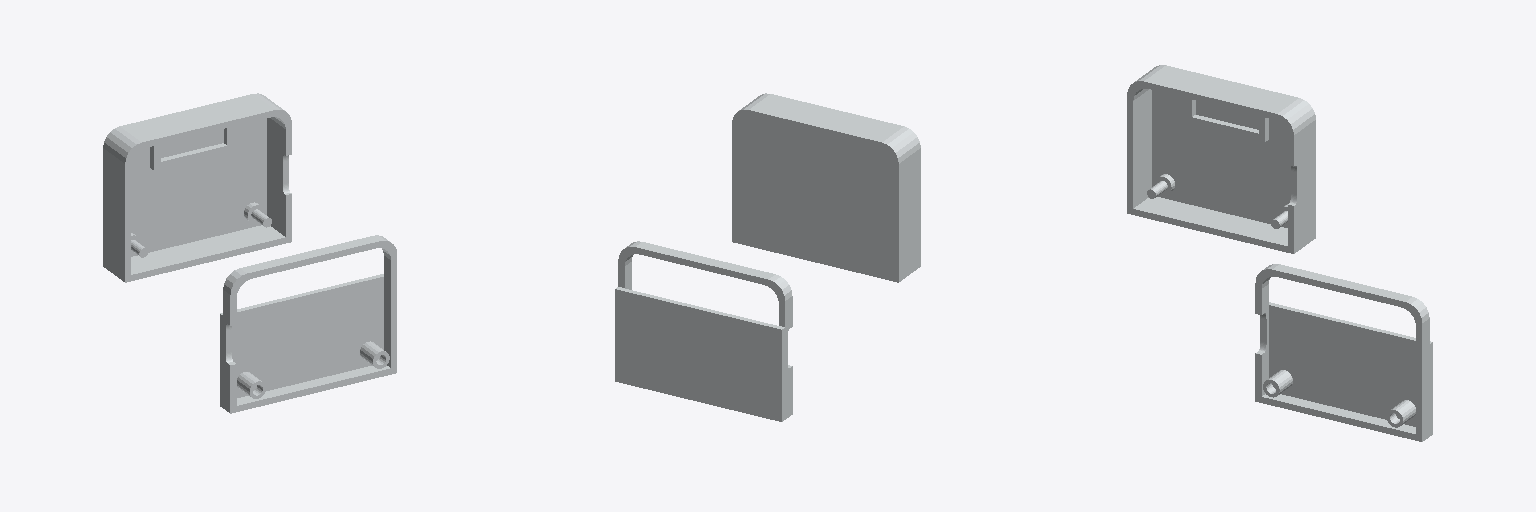
The model's file is tinker.obj.
3 renders of one model, left to right at view 1: azimuth 30°, elevation 25°; view 2: azimuth 150°, elevation 25°; view 3: azimuth 330°, elevation 25°, orthographic.
Visible parts, largest first — view 1: obj_0; view 2: obj_0; view 3: obj_0.
Part boxes in pixels (x1,y1,x2,y2): obj_0: (103, 93, 396, 413); obj_0: (615, 93, 920, 421); obj_0: (1127, 65, 1432, 441).
Size of the model in its own units: 85 by 87.1 by 11.5.